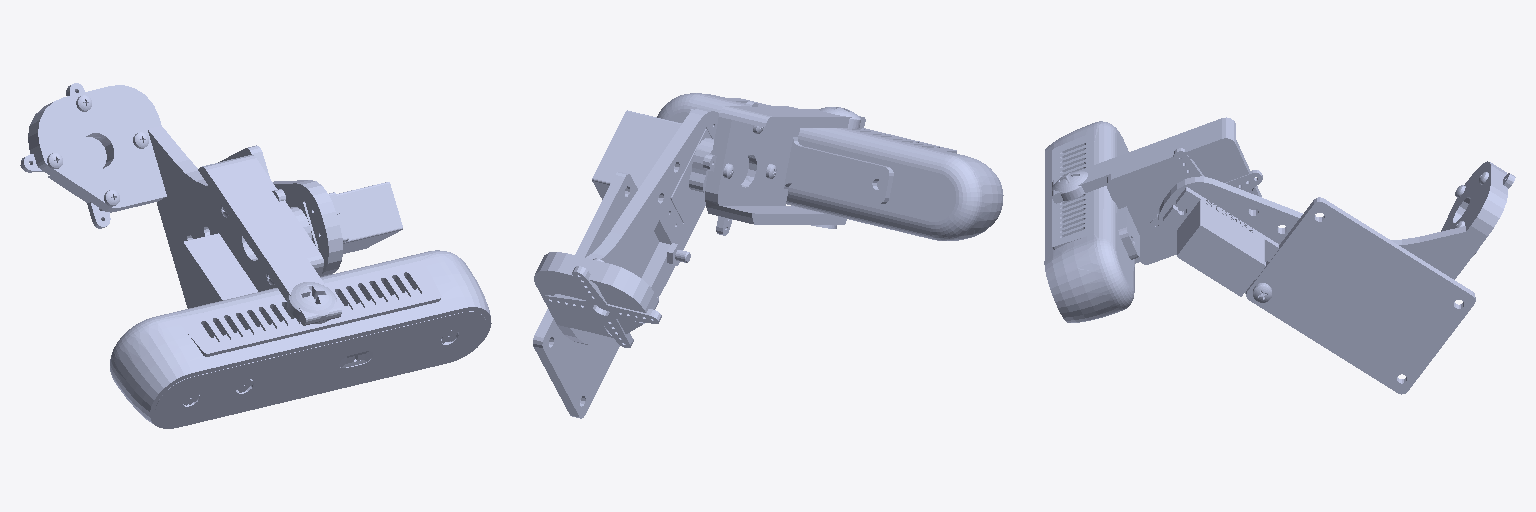
The robot description file, URDF, robot "部件1.SLDASM":
<?xml version="1.0" encoding="utf-8"?>
<!-- This URDF was automatically created by SolidWorks to URDF Exporter! Originally created by Stephen Brawner (brawner@gmail.com) 
     Commit Version: 1.6.0-4-g7f85cfe  Build Version: 1.6.7995.38578
     For more information, please see http://wiki.ros.org/sw_urdf_exporter -->
<robot
  name="部件1.SLDASM">
  <link
    name="base_link">
    <inertial>
      <origin
        xyz="0.324016188638054 -0.29268749854922 0.0551391894556958"
        rpy="0 0 0" />
      <mass
        value="0.0380967367917282" />
      <inertia
        ixx="4.4369451739139E-05"
        ixy="-1.29241907142882E-06"
        ixz="9.27859775427472E-07"
        iyy="2.95335995758148E-05"
        iyz="2.00567888139299E-05"
        izz="4.54076075878791E-05" />
    </inertial>
    <visual>
      <origin
        xyz="0 0 0"
        rpy="0 0 0" />
      <geometry>
        <mesh
          filename="package://部件1.SLDASM/meshes/base_link.STL" />
      </geometry>
      <material
        name="">
        <color
          rgba="0.792156862745098 0.819607843137255 0.933333333333333 1" />
      </material>
    </visual>
    <collision>
      <origin
        xyz="0 0 0"
        rpy="0 0 0" />
      <geometry>
        <mesh
          filename="package://部件1.SLDASM/meshes/base_link.STL" />
      </geometry>
    </collision>
  </link>
  <link
    name="Empty_Link1">
    <inertial>
      <origin
        xyz="0.0237905017278396 -0.0209478534637865 -0.0345077237632563"
        rpy="0 0 0" />
      <mass
        value="0.0254874630685235" />
      <inertia
        ixx="9.29165937948299E-06"
        ixy="1.06500899082607E-06"
        ixz="3.46808410209245E-06"
        iyy="1.2414708323279E-05"
        iyz="-9.93075398035609E-07"
        izz="5.71020781010046E-06" />
    </inertial>
    <visual>
      <origin
        xyz="0 0 0"
        rpy="0 0 0" />
      <geometry>
        <mesh
          filename="package://部件1.SLDASM/meshes/Empty_Link1.STL" />
      </geometry>
      <material
        name="">
        <color
          rgba="0.792156862745098 0.819607843137255 0.933333333333333 1" />
      </material>
    </visual>
    <collision>
      <origin
        xyz="0 0 0"
        rpy="0 0 0" />
      <geometry>
        <mesh
          filename="package://部件1.SLDASM/meshes/Empty_Link1.STL" />
      </geometry>
    </collision>
  </link>
  <joint
    name="joint1"
    type="continuous">
    <origin
      xyz="0.311943591251181 -0.100633750400905 -0.334498575224349"
      rpy="3.13514970526813 0.966999687757827 -1.57862311985778" />
    <parent
      link="base_link" />
    <child
      link="Empty_Link1" />
    <axis
      xyz="0 0 -1" />
  </joint>
  <link
    name="Empty_Link2">
    <inertial>
      <origin
        xyz="-0.0330059403313637 -0.000974210089246225 -0.00874934735000482"
        rpy="0 0 0" />
      <mass
        value="0.0477668295118638" />
      <inertia
        ixx="3.21292611931555E-05"
        ixy="-2.8112424014203E-08"
        ixz="-1.56259953290781E-07"
        iyy="3.28622306412358E-05"
        iyz="1.05351217752151E-07"
        izz="5.33814835133335E-06" />
    </inertial>
    <visual>
      <origin
        xyz="0 0 0"
        rpy="0 0 0" />
      <geometry>
        <mesh
          filename="package://部件1.SLDASM/meshes/Empty_Link2.STL" />
      </geometry>
      <material
        name="">
        <color
          rgba="0.792156862745098 0.819607843137255 0.933333333333333 1" />
      </material>
    </visual>
    <collision>
      <origin
        xyz="0 0 0"
        rpy="0 0 0" />
      <geometry>
        <mesh
          filename="package://部件1.SLDASM/meshes/Empty_Link2.STL" />
      </geometry>
    </collision>
  </link>
  <joint
    name="joint2"
    type="continuous">
    <origin
      xyz="0.0302544414057004 -0.00875648364365722 -0.0706864263465496"
      rpy="-1.57474578623967 -0.580496841285354 -3.14159265358977" />
    <parent
      link="Empty_Link1" />
    <child
      link="Empty_Link2" />
    <axis
      xyz="0 0.00394944917735483 -0.999992200895185" />
  </joint>
</robot>

--- Render facts (derived) ---
3 views of the same robot in one strip: view 1: azimuth 30°, elevation 25°; view 2: azimuth 150°, elevation 25°; view 3: azimuth 270°, elevation 25° (orthographic).
Model 部件1.SLDASM with 3 links and 2 joints (2 continuous), rooted at base_link, posed every joint at zero.
Links seen in each view (by area): view 1: Empty_Link2, Empty_Link1; view 2: Empty_Link2, Empty_Link1; view 3: Empty_Link1, Empty_Link2.
Link boxes in pixels (x1,y1,x2,y2): Empty_Link2: [110, 155, 491, 428]; Empty_Link1: [20, 83, 402, 308]; Empty_Link2: [657, 93, 1003, 240]; Empty_Link1: [533, 108, 718, 418]; Empty_Link1: [1158, 161, 1515, 394]; Empty_Link2: [1044, 117, 1262, 322].
Bounding box of the posed robot: 0.099 × 0.1349 × 0.0733 m (x, y, z).
Meshes: 3 distinct files referenced, 2 mesh visuals loaded (2 binary STL); not drawn: 1 (reference not matched to a file when rendering).
